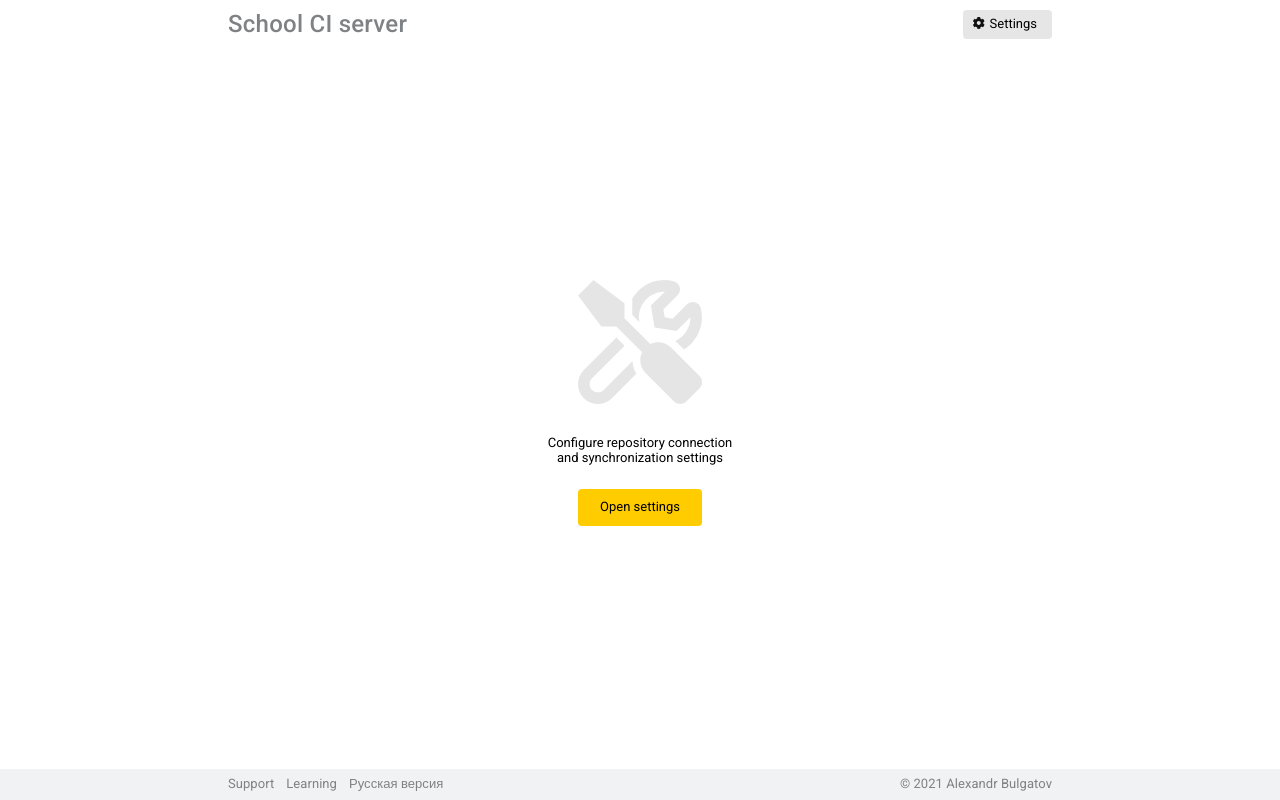
Test case: App.js › после клика на кнопку настроек произошёл редирект на страницу настроек
Step 1. Click the button "Open settings" → {"x": 640, "y": 508}, box 578,490 -> 702,526
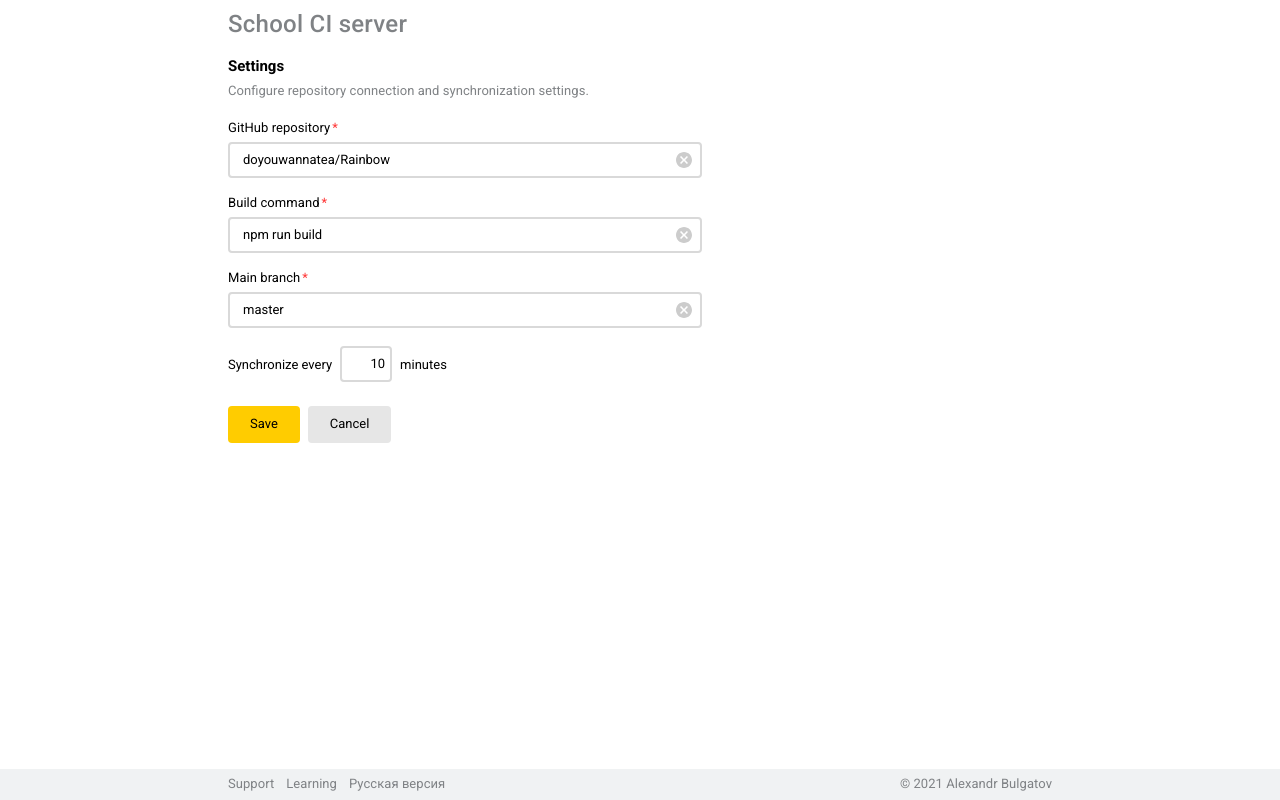
Expected: the text "Synchronize every minutes" is shown, 228,346 -> 447,382
